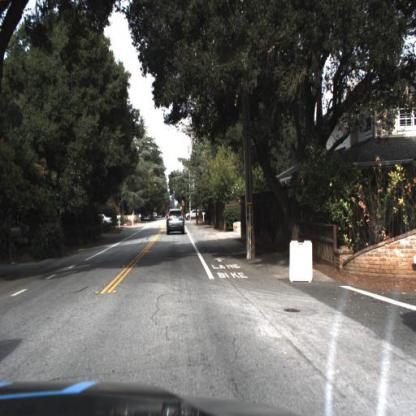car: (160, 200, 190, 242)
